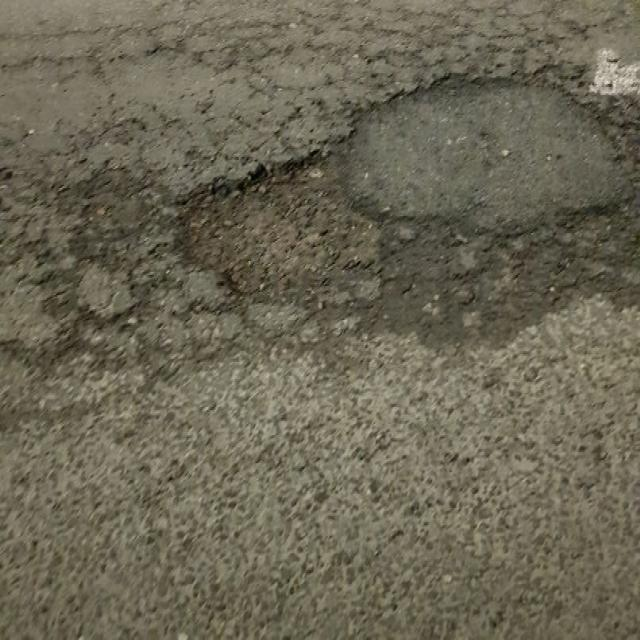pothole: (169, 128, 388, 304)
